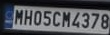character: (61, 10, 71, 27), (100, 12, 110, 29), (24, 8, 33, 26), (42, 10, 52, 26), (14, 8, 23, 25), (52, 10, 61, 27), (81, 11, 90, 28), (90, 11, 99, 28), (33, 9, 42, 25), (71, 11, 80, 27)
